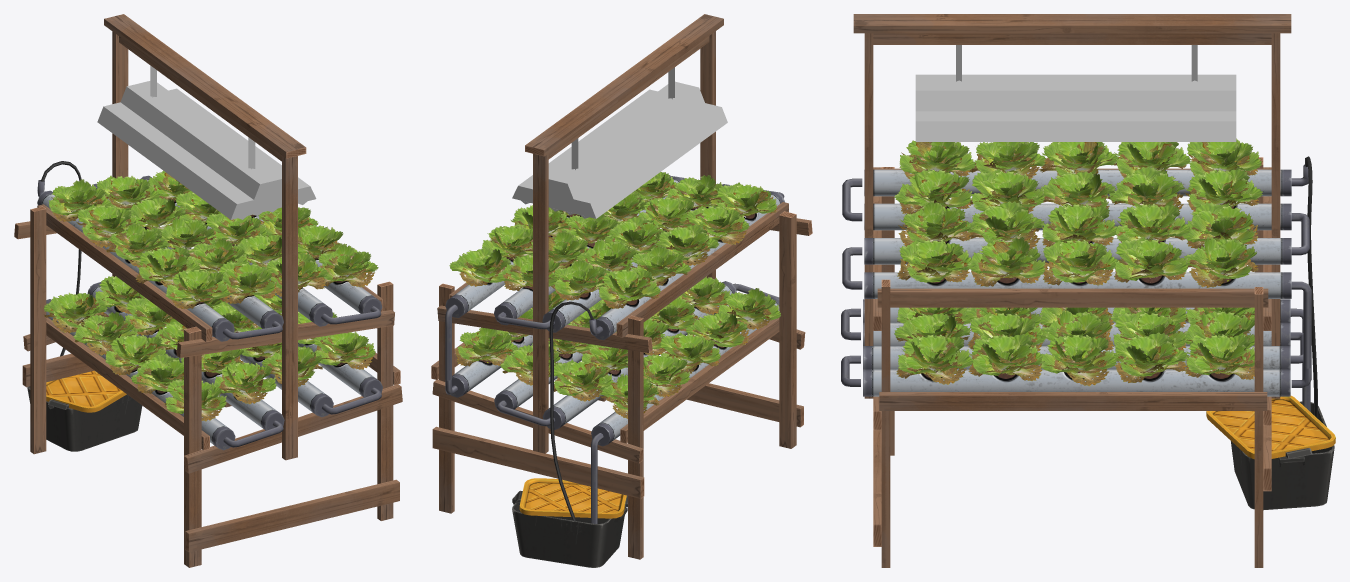
Rendered from hydroponics_H02_lettuce .fbx.
3 renders of one model, left to right at view 1: azimuth 30°, elevation 25°; view 2: azimuth 150°, elevation 25°; view 3: azimuth 270°, elevation 25°, orthographic. The views are drawn at different scales.
Parts seen in each view (by area): view 1: hydroponics_H02_lettuce, hydroponics_H02_lettuce _S3, hydroponics_H02_lettuce _lamp, hydroponics_H02_lettuce _S4, hydroponics_H02_lettuce _S2, hydroponics_H02_lettuce _S1; view 2: hydroponics_H02_lettuce, hydroponics_H02_lettuce _S3, hydroponics_H02_lettuce _lamp, hydroponics_H02_lettuce _S4, hydroponics_H02_lettuce _S2, hydroponics_H02_lettuce _S1; view 3: hydroponics_H02_lettuce, hydroponics_H02_lettuce _S3, hydroponics_H02_lettuce _lamp, hydroponics_H02_lettuce _S4, hydroponics_H02_lettuce _S2, hydroponics_H02_lettuce _S1.
Part boxes in pixels (x1,y1,x2,y2): hydroponics_H02_lettuce: (14, 161, 402, 567); hydroponics_H02_lettuce _S3: (43, 170, 378, 413); hydroponics_H02_lettuce _lamp: (97, 14, 316, 460); hydroponics_H02_lettuce _S4: (44, 172, 374, 421); hydroponics_H02_lettuce _S2: (52, 180, 368, 408); hydroponics_H02_lettuce _S1: (66, 177, 354, 385); hydroponics_H02_lettuce: (431, 175, 812, 567); hydroponics_H02_lettuce _S3: (449, 172, 780, 409); hydroponics_H02_lettuce _lamp: (512, 14, 727, 453); hydroponics_H02_lettuce _S4: (455, 181, 777, 418); hydroponics_H02_lettuce _S2: (465, 180, 769, 404); hydroponics_H02_lettuce _S1: (470, 186, 759, 380); hydroponics_H02_lettuce: (841, 156, 1335, 567); hydroponics_H02_lettuce _S3: (894, 138, 1262, 376); hydroponics_H02_lettuce _lamp: (853, 14, 1291, 398); hydroponics_H02_lettuce _S4: (896, 142, 1258, 386); hydroponics_H02_lettuce _S2: (905, 149, 1252, 371); hydroponics_H02_lettuce _S1: (919, 147, 1236, 367).
Size of the model in its own units: 1.45 by 2.5 by 2.31.
